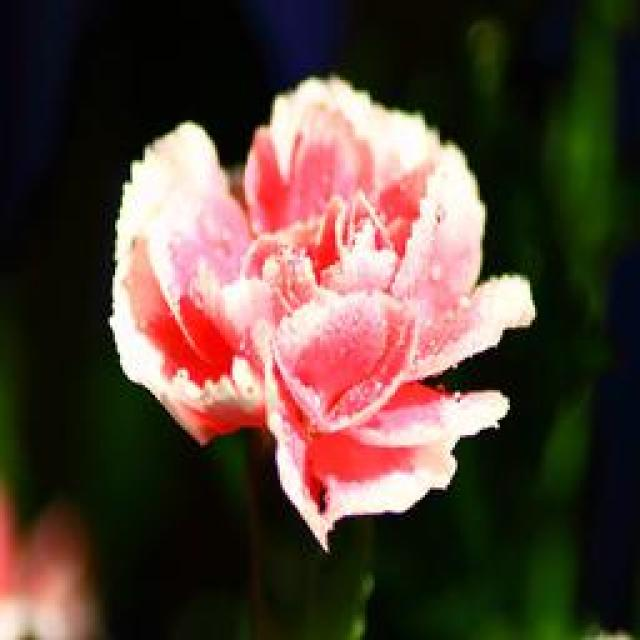carnation: (94, 66, 528, 546)
